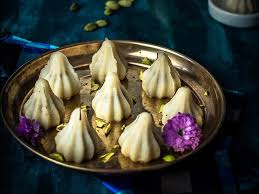modak: (54, 105, 111, 163), (87, 70, 136, 120), (38, 47, 81, 102), (120, 113, 167, 163), (21, 82, 67, 131), (157, 83, 210, 120), (141, 52, 182, 95), (88, 39, 123, 82)
